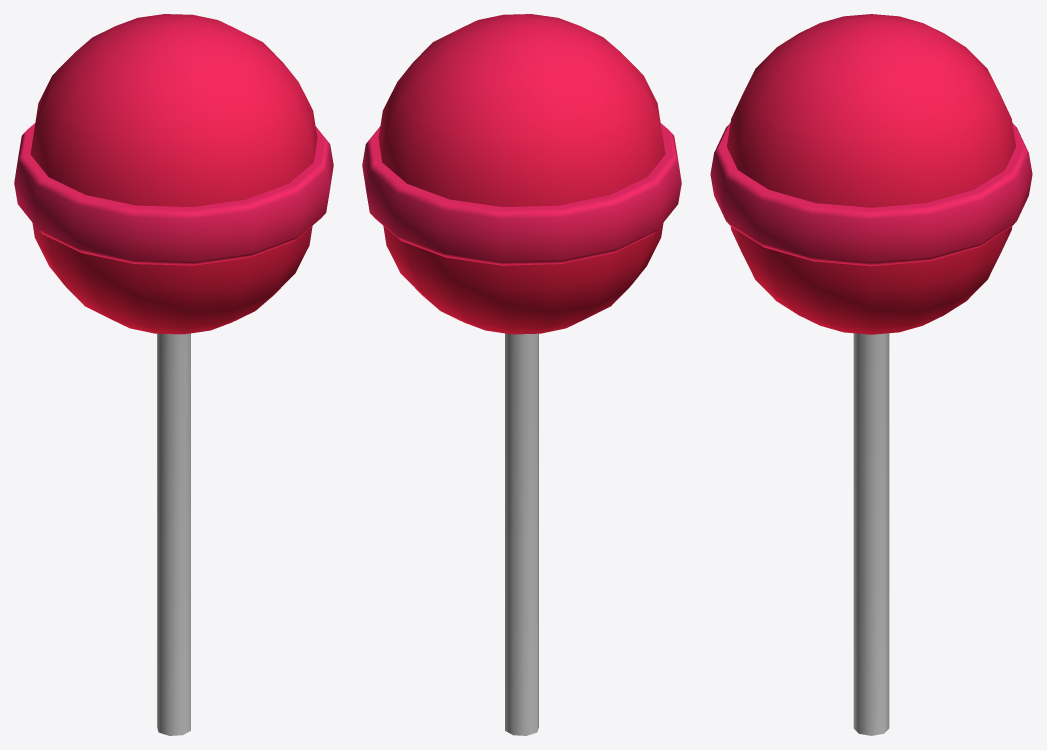
Rendered from lollipop_026.glb.
3 renders of one model, left to right at view 1: azimuth 30°, elevation 25°; view 2: azimuth 150°, elevation 25°; view 3: azimuth 270°, elevation 25°, orthographic.
Visible parts, largest first — view 1: lollipop_026; view 2: lollipop_026; view 3: lollipop_026.
Part boxes in pixels (left/top/right/bottom): lollipop_026: left=14, top=14, right=333, bottom=735; lollipop_026: left=362, top=14, right=681, bottom=735; lollipop_026: left=710, top=14, right=1032, bottom=735.
Size of the model in its own units: 2.64 by 6.34 by 2.64.
1 material, 1 textured.
